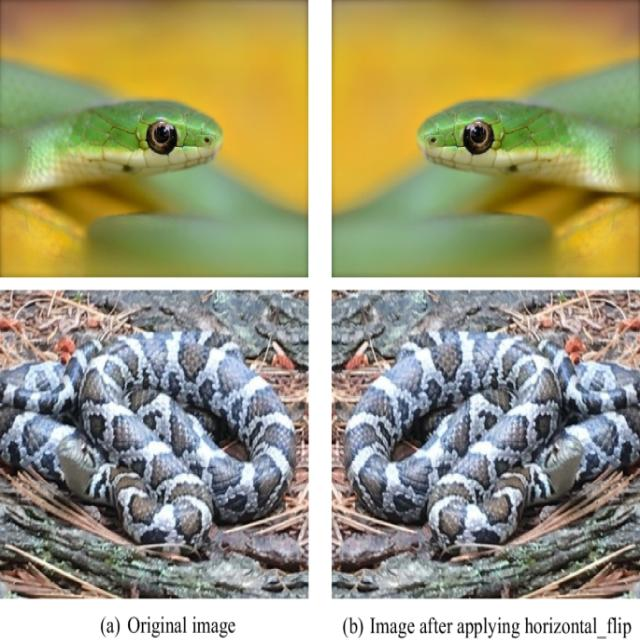Snake: (344, 319, 640, 561), (0, 327, 299, 538), (0, 89, 225, 222), (418, 88, 640, 218)
